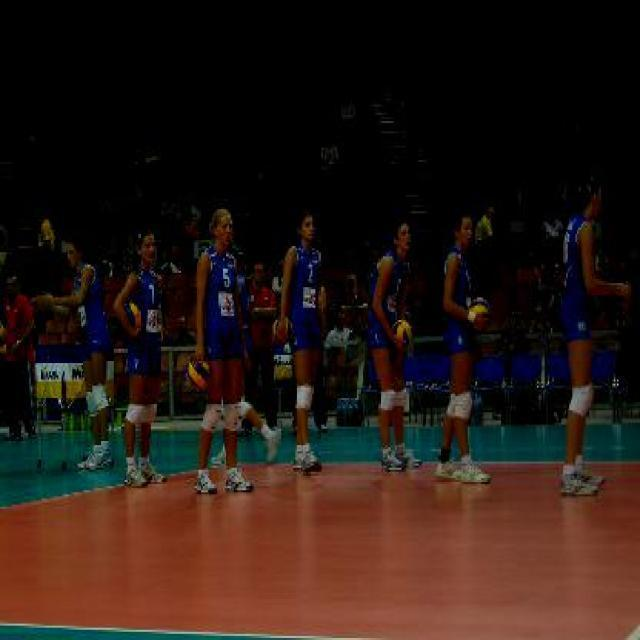volleyball: (186, 361, 210, 393), (391, 320, 413, 350), (122, 302, 141, 330), (467, 297, 490, 313)
